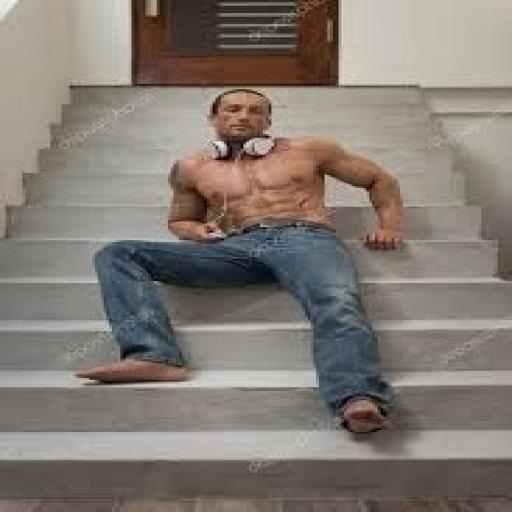listening_to_music: (73, 86, 411, 436)
